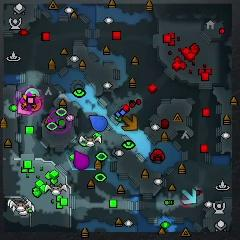Other: (19, 92, 38, 111)
p1: (89, 115, 108, 132)
p2: (25, 88, 39, 97)
p3: (72, 150, 90, 170)
x1: (17, 102, 32, 116)
x3: (181, 188, 197, 204)
x5: (122, 115, 137, 131)
